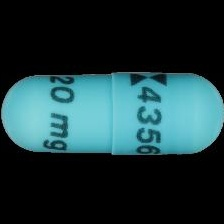0615-1357: (0, 0, 224, 224)
